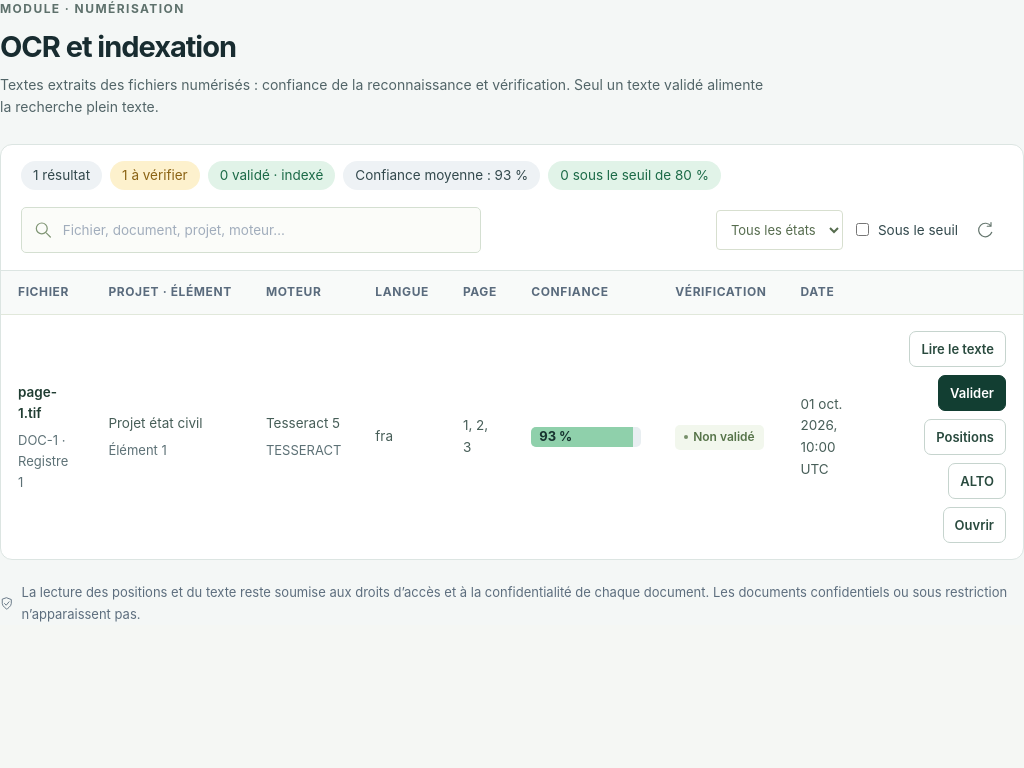
demande la page à exporter pour un résultat de plusieurs pages au lieu de télécharger silencieusement la première
Click the button "ALTO" at [977, 481], box x1=948 y1=463 x2=1006 y2=499
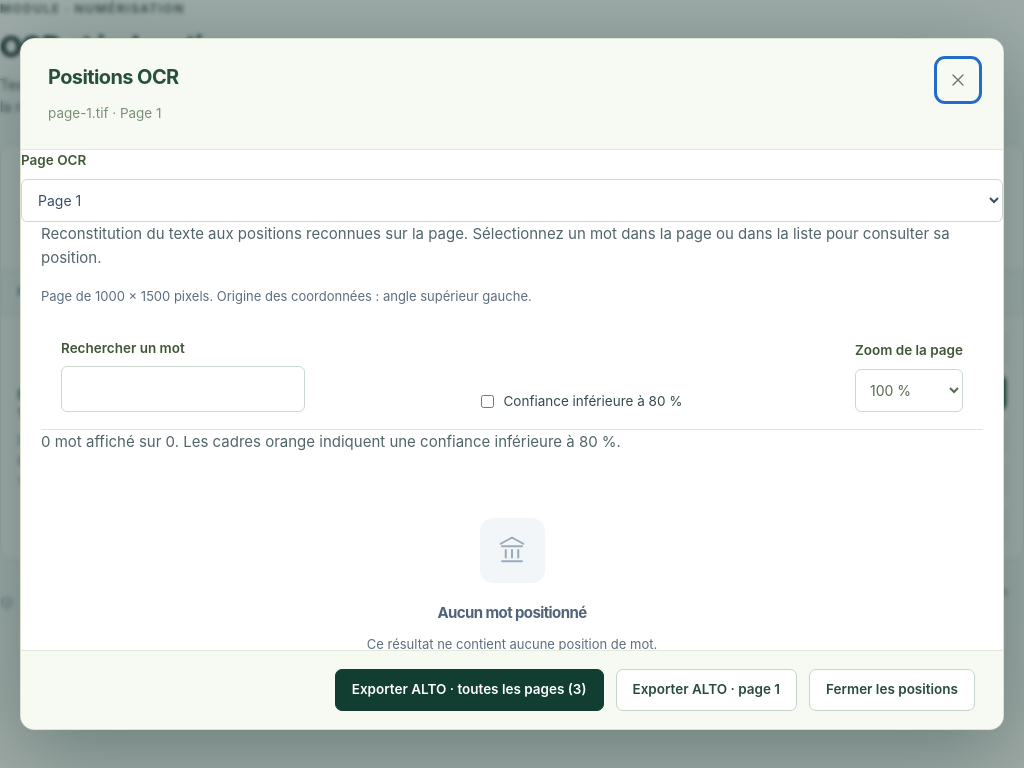
Check: the heading "Aucun mot positionné" is shown, box x1=438 y1=603 x2=586 y2=622
